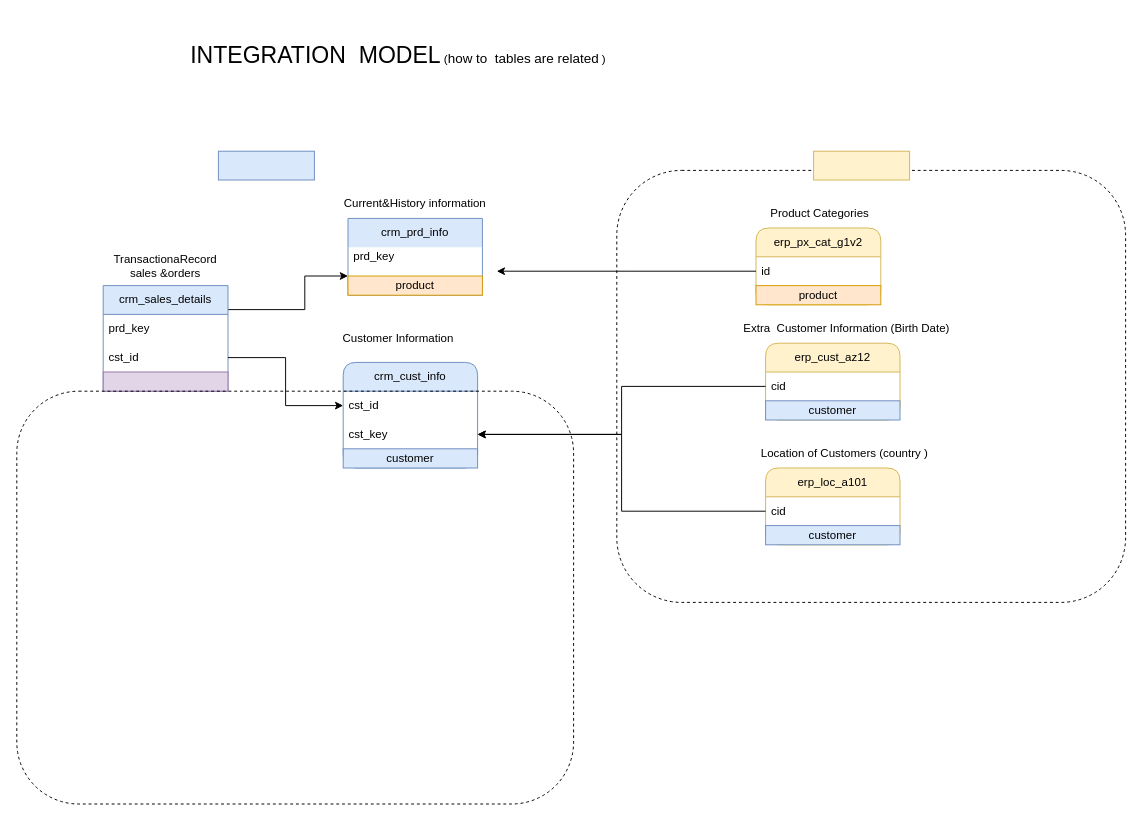
Some shapes in this 1142 by 821 pixel diagram are drawn without their labels. The centre of each missing label's shape, as x and y in pixels:
CRM: pixel 265 165
ERP: pixel 861 165
sales: pixel 165 381
